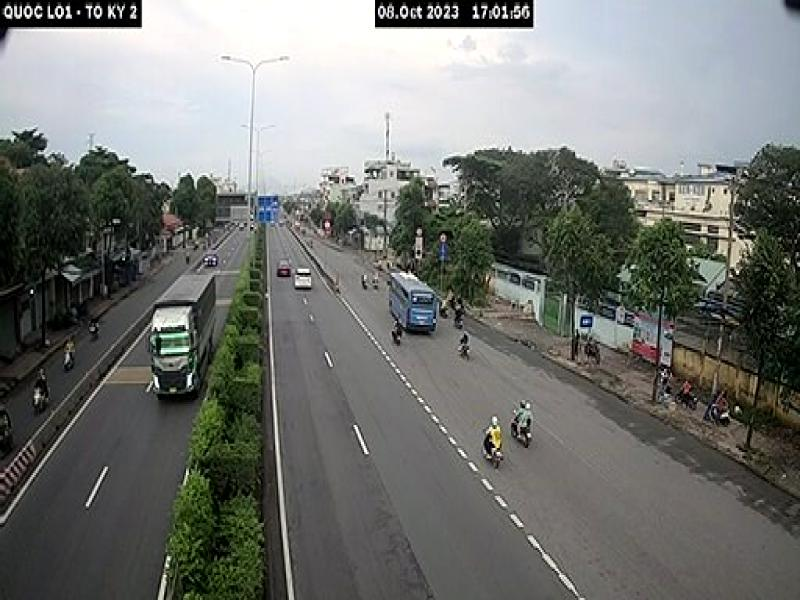bus: (388, 265, 439, 354)
car: (290, 257, 316, 304)
truck: (115, 262, 220, 394)
